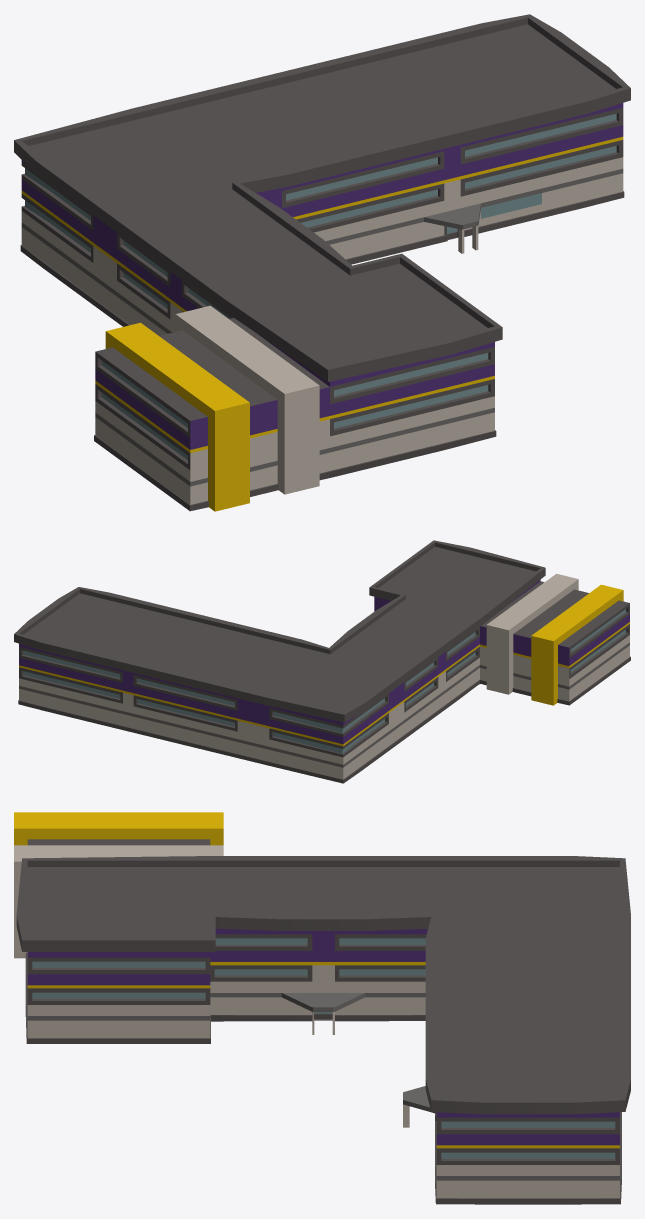
The model's file is Depot_Factory_S3.fbx.
3 views of the same model, one above another, from view 1: azimuth 30°, elevation 25°; view 2: azimuth 150°, elevation 25°; view 3: azimuth 270°, elevation 25° (orthographic). The views are drawn at different scales.
Visible parts, largest first — view 1: Depot_Factory; view 2: Depot_Factory; view 3: Depot_Factory.
Part boxes in pixels (x1=…): Depot_Factory: x1=14, y1=14, x2=630, y2=511; Depot_Factory: x1=14, y1=540, x2=630, y2=783; Depot_Factory: x1=14, y1=812, x2=630, y2=1204.
Size of the model in its own units: 11928 by 1942 by 10103.
